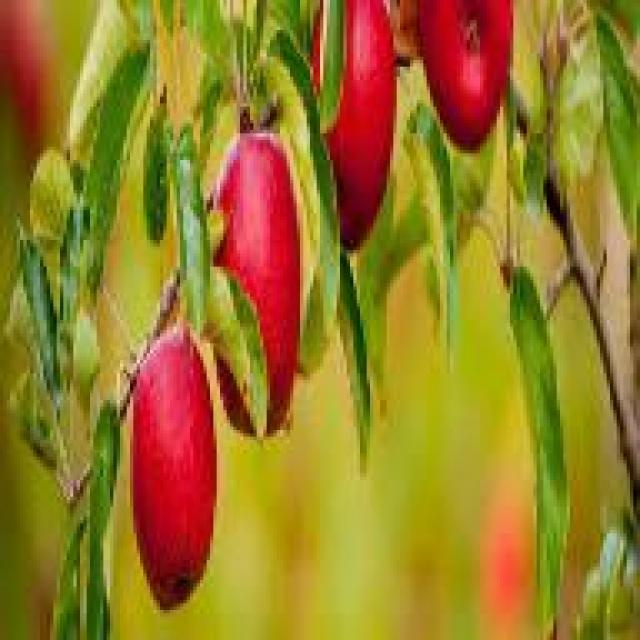apple: (126, 313, 226, 620), (210, 137, 310, 420), (303, 7, 390, 243)
